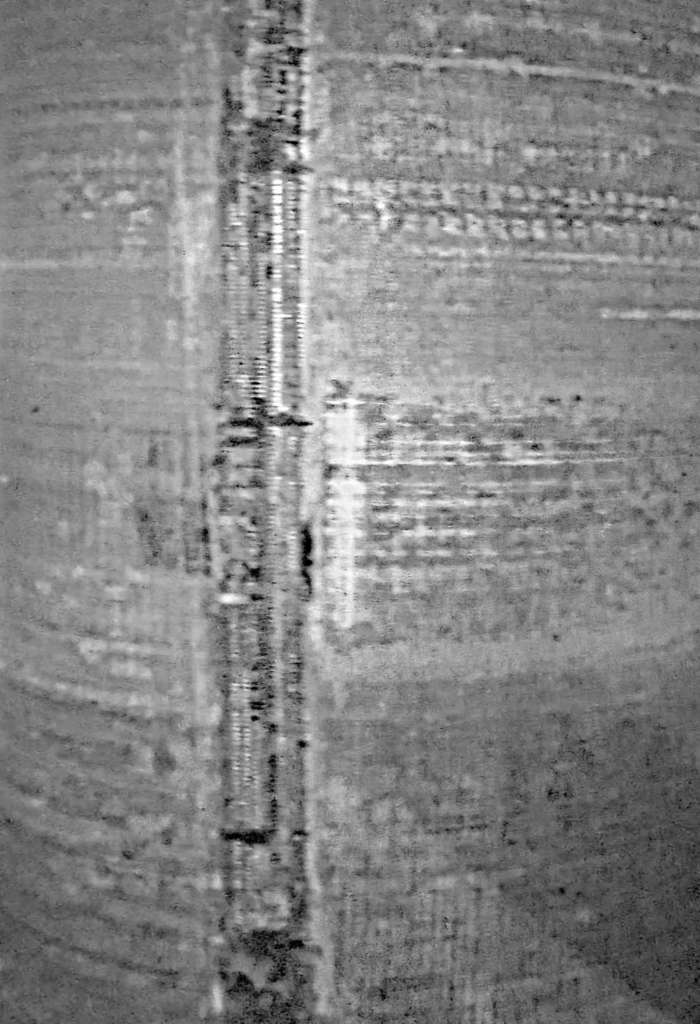splice: (196, 1, 329, 1024)
